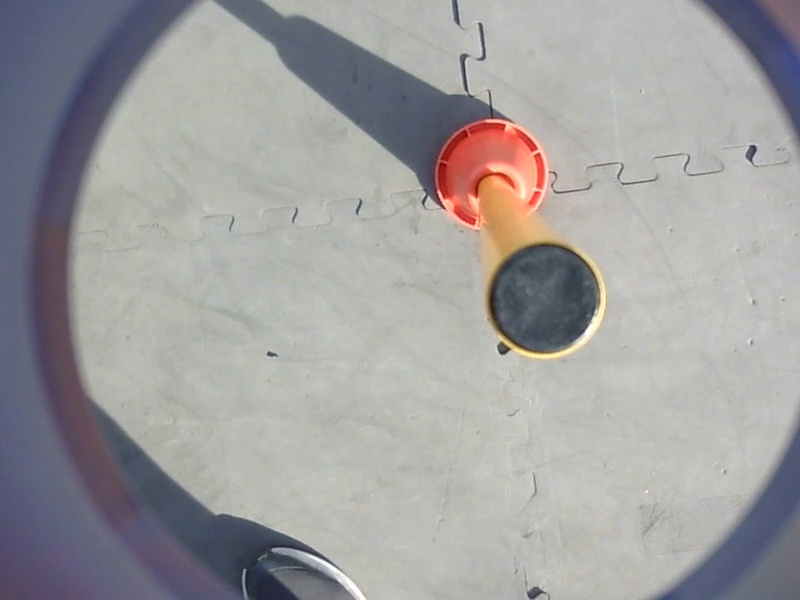tip: (482, 236, 611, 365)
